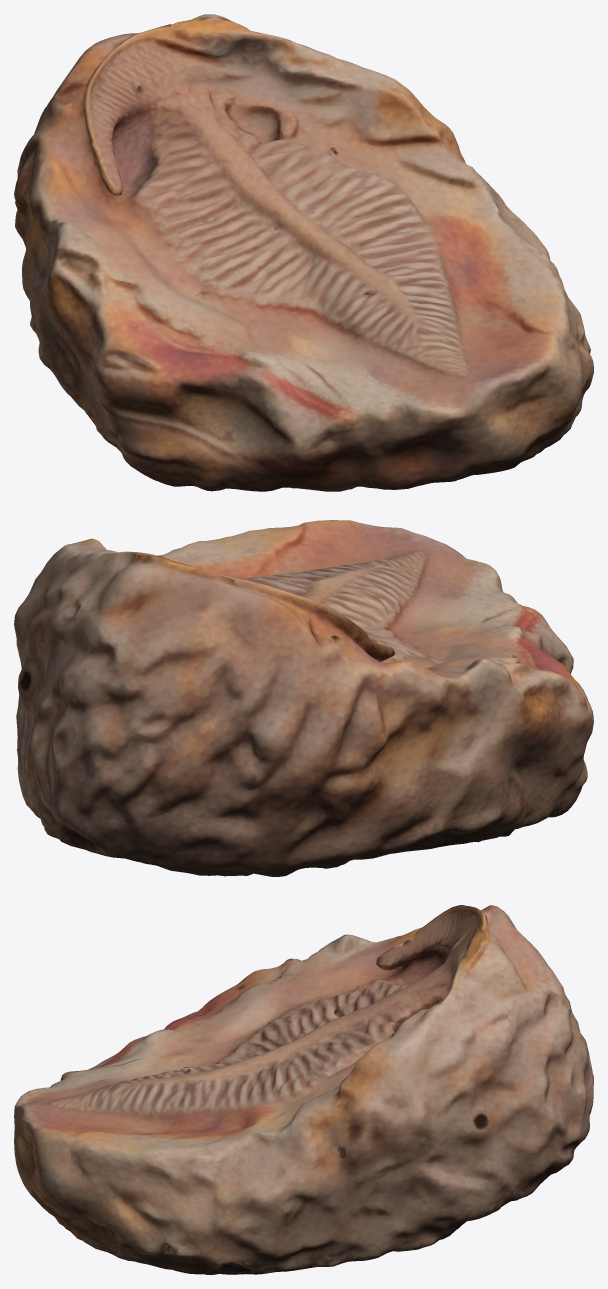
3 views of the same model, one above another, from view 1: azimuth 30°, elevation 25°; view 2: azimuth 150°, elevation 25°; view 3: azimuth 270°, elevation 25° (orthographic). The views are drawn at different scales.
Parts seen in each view (by area): view 1: world; view 2: world; view 3: world.
Part boxes in pixels (<box>): world: <box>14,14,593,491</box>; world: <box>14,520,593,876</box>; world: <box>14,905,593,1274</box>.
Bounding box in the file's own units: 0.0443 × 0.0284 × 0.055.
1 material, 1 textured.
